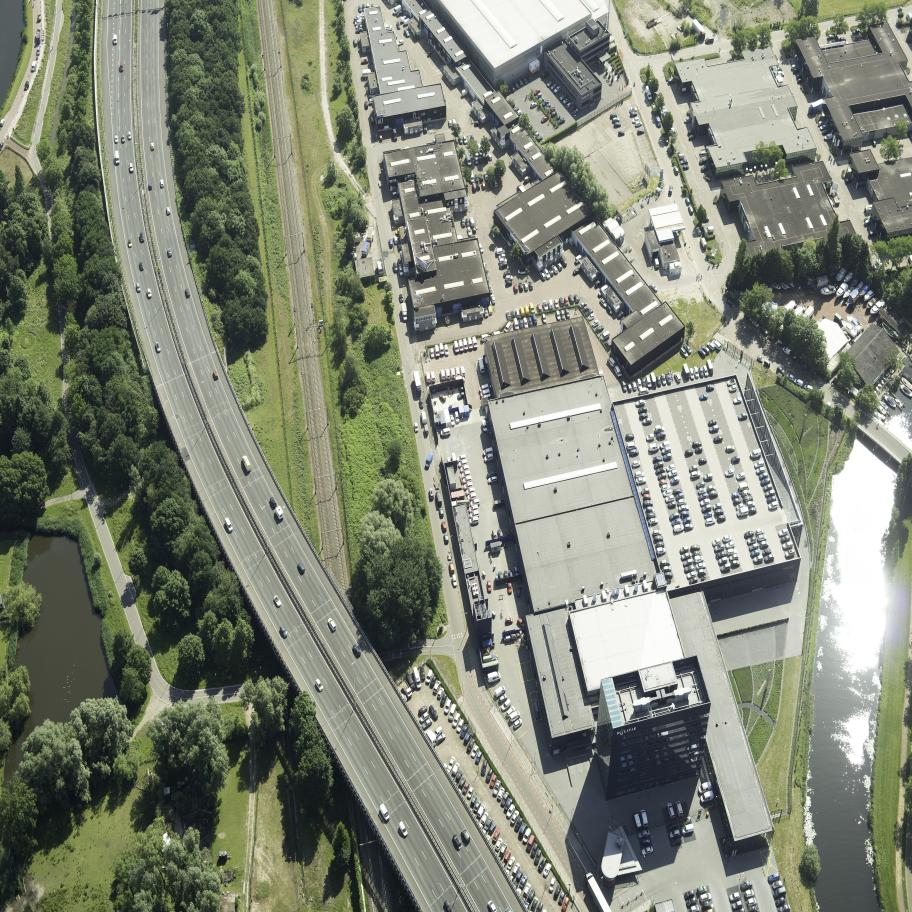large-vehicle: (689, 17, 710, 43), (422, 727, 441, 748), (805, 98, 828, 115), (800, 304, 817, 324), (377, 802, 392, 823), (412, 370, 423, 398), (698, 789, 716, 805), (485, 670, 503, 685), (400, 680, 414, 699), (240, 453, 253, 473), (506, 709, 523, 724), (696, 781, 714, 795), (404, 673, 417, 692), (498, 698, 514, 713), (412, 666, 422, 690), (831, 312, 847, 327), (273, 504, 287, 521), (492, 684, 508, 698), (447, 702, 458, 722), (423, 452, 435, 470), (680, 823, 696, 836), (223, 516, 235, 533), (632, 812, 643, 830), (504, 705, 518, 719), (431, 725, 445, 739), (596, 284, 611, 297), (748, 447, 763, 460), (666, 801, 676, 820), (605, 355, 618, 369), (681, 363, 691, 381), (400, 302, 409, 322), (598, 330, 613, 342), (640, 809, 649, 828), (710, 338, 723, 351), (390, 4, 404, 16), (502, 320, 514, 334), (649, 372, 658, 390), (675, 800, 684, 818), (439, 426, 452, 438), (573, 253, 586, 265), (492, 498, 506, 509), (706, 359, 715, 376), (613, 364, 623, 379), (425, 668, 434, 684), (482, 453, 495, 464), (699, 236, 709, 250), (705, 341, 717, 352), (479, 388, 492, 398), (462, 481, 475, 491), (465, 492, 478, 502), (464, 151, 472, 167), (435, 491, 443, 507), (478, 383, 490, 393), (481, 393, 493, 403), (482, 447, 494, 457), (459, 464, 471, 474), (460, 470, 472, 480), (461, 475, 473, 485), (469, 498, 481, 508), (468, 504, 480, 514), (469, 510, 481, 520), (468, 516, 480, 526), (457, 339, 465, 354), (480, 333, 492, 343), (653, 424, 665, 434), (478, 357, 485, 374), (402, 17, 413, 27), (399, 14, 410, 24), (704, 225, 715, 235), (361, 69, 373, 78), (465, 487, 477, 496), (457, 459, 469, 468), (492, 330, 504, 339), (420, 410, 427, 425), (453, 340, 460, 355), (438, 342, 445, 357), (30, 60, 38, 73), (439, 369, 447, 382), (444, 368, 452, 381), (528, 302, 536, 315), (455, 375, 466, 384), (456, 454, 467, 463), (495, 247, 506, 256), (704, 36, 715, 45), (477, 143, 484, 157), (471, 336, 478, 350), (467, 337, 474, 351), (462, 338, 469, 352), (459, 365, 466, 378), (468, 171, 475, 184), (449, 367, 456, 380), (481, 419, 488, 432), (513, 318, 520, 331), (443, 344, 450, 357), (531, 313, 538, 326), (655, 115, 662, 128), (653, 256, 660, 269), (702, 364, 709, 377), (114, 150, 120, 165), (454, 366, 461, 378), (434, 344, 440, 358), (523, 304, 530, 316), (23, 81, 31, 91), (392, 128, 398, 141), (451, 452, 457, 465), (36, 29, 41, 44), (425, 372, 431, 384), (430, 371, 436, 383), (454, 411, 460, 423), (469, 216, 475, 228), (519, 306, 525, 317), (446, 457, 452, 467), (36, 45, 41, 56), (120, 61, 124, 72), (113, 34, 117, 44), (38, 13, 42, 21)
ship: (843, 311, 866, 334), (838, 317, 861, 339), (878, 320, 900, 342), (866, 298, 887, 317), (780, 298, 799, 317), (832, 280, 851, 299), (789, 301, 807, 321), (840, 268, 858, 286), (834, 264, 850, 284), (864, 294, 882, 311), (840, 284, 857, 301), (856, 283, 872, 299), (882, 394, 898, 409), (819, 284, 838, 296), (847, 275, 863, 289), (861, 289, 876, 303), (853, 280, 867, 293), (769, 280, 783, 291), (876, 404, 888, 416), (878, 399, 890, 411), (786, 278, 797, 289), (893, 397, 904, 408), (779, 281, 788, 291), (782, 280, 791, 290), (886, 391, 895, 400)
small-vehicle: (771, 886, 789, 900), (450, 833, 464, 850), (419, 717, 435, 731), (397, 820, 409, 838), (525, 834, 537, 852), (521, 826, 533, 844), (417, 710, 432, 724), (541, 862, 554, 878), (427, 704, 440, 720), (459, 827, 472, 843), (505, 803, 517, 820), (509, 809, 521, 826), (537, 856, 549, 873), (433, 732, 448, 745), (313, 677, 325, 693), (475, 803, 487, 819), (483, 815, 494, 832), (498, 841, 509, 858), (506, 855, 517, 872), (560, 895, 571, 912), (513, 816, 524, 833), (416, 704, 430, 717), (773, 896, 788, 908), (278, 624, 290, 639), (326, 617, 338, 632), (351, 643, 363, 658), (492, 779, 502, 797), (500, 790, 510, 808), (533, 848, 543, 866), (394, 693, 409, 705), (518, 873, 528, 891), (735, 506, 750, 518), (698, 892, 713, 904), (451, 712, 462, 728), (455, 718, 466, 734), (459, 723, 470, 739), (488, 773, 499, 789), (450, 761, 461, 777), (526, 888, 537, 904), (443, 698, 453, 715), (466, 736, 476, 753), (515, 617, 528, 630), (511, 717, 524, 730), (496, 693, 510, 705), (774, 365, 788, 377), (767, 872, 781, 884), (470, 744, 481, 759), (503, 797, 514, 812), (452, 787, 463, 802), (640, 846, 655, 857), (446, 756, 456, 772), (474, 822, 484, 838), (530, 842, 540, 858), (522, 882, 532, 898), (518, 822, 528, 838), (458, 800, 470, 813), (462, 806, 475, 818), (742, 311, 754, 324), (728, 891, 741, 903), (272, 594, 283, 608), (679, 816, 693, 827), (668, 829, 682, 840), (781, 540, 795, 551), (740, 880, 754, 891), (730, 900, 744, 911), (485, 767, 494, 784), (644, 84, 653, 101), (432, 679, 442, 694), (553, 884, 563, 899), (496, 786, 506, 801), (472, 799, 482, 814), (494, 837, 504, 852), (511, 862, 521, 877), (439, 762, 449, 777), (548, 877, 557, 893), (503, 848, 512, 864), (449, 781, 458, 797), (514, 887, 523, 903), (530, 896, 539, 912), (682, 342, 694, 354), (532, 134, 545, 145), (777, 527, 790, 538), (719, 562, 732, 573), (679, 346, 690, 359), (697, 346, 708, 359), (856, 36, 869, 47), (783, 548, 796, 559), (696, 885, 709, 896), (685, 897, 698, 908), (701, 900, 714, 911), (780, 345, 793, 356), (296, 561, 306, 575), (461, 781, 471, 795), (463, 731, 473, 745), (474, 751, 484, 765), (457, 776, 467, 790), (480, 811, 490, 825), (487, 822, 497, 836), (491, 829, 501, 843), (445, 775, 455, 789), (470, 817, 480, 831), (637, 829, 651, 839), (480, 759, 488, 776), (533, 703, 541, 720), (468, 811, 477, 826), (478, 829, 487, 844), (515, 868, 524, 883), (552, 84, 564, 95), (545, 105, 557, 116), (521, 174, 533, 185), (648, 442, 660, 453), (669, 475, 681, 486), (598, 297, 609, 309), (793, 377, 805, 388), (725, 297, 736, 309), (701, 344, 712, 356), (743, 888, 755, 899), (268, 496, 278, 509), (454, 770, 464, 783), (668, 512, 681, 522), (699, 498, 712, 508), (700, 504, 713, 514), (659, 440, 672, 450), (660, 446, 673, 456), (759, 477, 772, 487), (764, 489, 777, 499), (713, 543, 726, 553), (715, 550, 728, 560), (752, 554, 765, 564), (763, 553, 776, 563), (683, 890, 696, 900), (439, 693, 448, 707), (498, 861, 507, 875), (557, 891, 566, 905), (593, 278, 604, 289), (767, 333, 778, 344), (649, 282, 660, 293), (487, 475, 499, 485), (748, 543, 760, 553), (503, 868, 511, 883), (507, 874, 515, 889), (511, 881, 519, 896), (659, 558, 671, 568), (655, 431, 667, 441), (653, 460, 665, 470), (665, 463, 677, 473), (767, 501, 779, 511), (728, 553, 740, 563), (735, 471, 747, 481), (682, 558, 694, 568), (686, 570, 698, 580), (693, 554, 705, 564), (717, 556, 729, 566), (726, 547, 738, 557), (746, 535, 758, 545), (708, 424, 720, 434), (594, 324, 606, 334), (615, 310, 627, 320), (605, 304, 615, 316), (784, 372, 796, 382), (803, 383, 815, 393), (746, 897, 758, 907), (436, 686, 445, 699), (429, 675, 438, 688), (683, 565, 696, 574), (490, 851, 499, 864), (677, 504, 690, 513), (673, 371, 682, 384), (654, 466, 667, 475), (680, 552, 693, 561), (484, 834, 491, 850), (437, 393, 448, 403), (456, 391, 467, 401), (540, 70, 551, 80), (558, 92, 569, 102), (561, 96, 572, 106), (556, 116, 567, 126), (523, 123, 534, 133), (530, 131, 541, 141), (536, 138, 547, 148), (671, 517, 682, 527), (681, 516, 692, 526), (550, 264, 560, 275), (559, 257, 569, 268), (572, 266, 583, 276), (662, 488, 673, 498), (730, 559, 741, 569), (755, 354, 766, 364), (759, 326, 770, 336), (725, 540, 736, 550), (744, 530, 755, 540), (583, 308, 594, 318), (603, 339, 613, 350), (667, 822, 678, 832), (772, 880, 783, 890), (486, 470, 498, 479), (756, 533, 768, 542), (758, 540, 770, 549), (394, 226, 406, 235), (654, 541, 666, 550), (655, 546, 667, 555), (673, 524, 685, 533), (690, 470, 702, 479), (543, 268, 552, 280), (713, 508, 725, 517), (664, 494, 676, 503), (704, 517, 716, 526), (656, 472, 668, 481), (667, 469, 679, 478), (742, 494, 754, 503), (762, 483, 774, 492), (678, 546, 690, 555), (695, 561, 707, 570), (711, 538, 723, 547), (730, 455, 742, 464), (780, 535, 792, 544), (749, 549, 761, 558), (671, 837, 683, 846), (645, 375, 652, 390), (448, 414, 456, 427), (467, 786, 475, 799), (487, 843, 495, 856), (443, 769, 451, 782), (470, 794, 478, 807), (660, 373, 668, 386), (664, 372, 672, 385), (507, 83, 517, 93), (565, 100, 575, 110), (552, 113, 562, 123), (538, 271, 548, 281), (498, 261, 509, 270), (549, 82, 560, 91), (540, 99, 551, 108), (542, 103, 553, 112), (527, 128, 538, 137), (521, 75, 530, 86), (634, 470, 645, 479), (636, 476, 647, 485), (640, 487, 651, 496), (641, 837, 652, 846), (683, 522, 694, 531), (684, 448, 695, 457), (703, 473, 714, 482), (695, 481, 706, 490), (698, 492, 709, 501), (708, 490, 719, 499), (546, 266, 555, 277), (712, 502, 723, 511), (646, 512, 657, 521), (648, 517, 659, 526), (645, 433, 656, 442), (672, 487, 683, 496), (662, 452, 673, 461), (660, 483, 671, 492), (661, 565, 672, 574), (737, 412, 748, 421), (741, 488, 752, 497), (747, 506, 758, 515), (754, 460, 765, 469), (755, 466, 766, 475), (758, 472, 769, 481), (766, 495, 777, 504), (688, 576, 699, 585), (713, 435, 724, 444), (724, 469, 735, 478), (698, 393, 709, 402), (491, 529, 498, 543), (495, 855, 502, 869), (154, 341, 162, 353), (477, 242, 485, 254), (492, 227, 500, 239), (568, 293, 576, 305), (702, 365, 710, 377), (497, 528, 504, 541), (395, 9, 405, 18), (402, 29, 411, 39), (513, 109, 523, 118), (507, 102, 517, 111), (503, 85, 512, 95), (504, 98, 514, 107), (546, 79, 556, 88), (568, 104, 578, 113), (539, 115, 549, 124), (652, 529, 662, 538), (581, 304, 591, 313), (578, 300, 588, 309), (703, 511, 713, 520), (675, 492, 685, 501), (677, 498, 687, 507), (751, 319, 761, 328), (697, 568, 707, 577), (725, 444, 735, 453), (728, 384, 738, 393), (591, 319, 601, 328), (854, 33, 864, 42), (653, 535, 664, 543), (502, 270, 513, 278), (635, 399, 646, 407), (638, 412, 649, 420), (642, 417, 653, 425), (688, 465, 699, 473), (643, 500, 654, 508), (638, 387, 649, 395), (679, 510, 690, 518), (652, 455, 663, 463), (732, 497, 743, 505), (663, 571, 674, 579), (690, 544, 701, 552), (823, 133, 834, 141), (697, 158, 708, 166), (666, 146, 674, 157), (146, 287, 153, 299), (420, 667, 426, 681), (428, 488, 435, 500), (513, 566, 520, 578), (626, 381, 633, 393), (522, 317, 529, 329), (542, 299, 549, 311), (517, 76, 524, 88), (693, 366, 700, 378), (698, 366, 705, 378), (868, 229, 877, 238), (763, 359, 772, 368), (571, 107, 580, 116), (534, 92, 543, 101), (731, 491, 740, 500), (389, 33, 399, 41), (371, 101, 381, 109), (395, 39, 405, 47), (431, 137, 441, 145), (536, 96, 546, 104), (549, 110, 559, 118), (638, 406, 648, 414), (625, 433, 635, 441), (631, 460, 641, 468), (692, 440, 702, 448), (697, 487, 707, 495), (556, 261, 564, 271), (667, 501, 677, 509), (717, 514, 727, 522), (685, 108, 695, 116), (658, 478, 668, 486), (733, 396, 743, 404), (821, 128, 831, 136), (735, 503, 745, 511), (726, 378, 736, 386), (722, 535, 732, 543), (755, 527, 765, 535), (707, 419, 717, 427), (586, 313, 596, 321), (688, 133, 698, 141), (700, 165, 710, 173), (498, 570, 504, 583), (516, 586, 522, 599), (212, 369, 219, 380), (184, 287, 191, 298), (138, 261, 145, 272), (443, 533, 450, 544), (472, 146, 479, 157), (631, 380, 638, 391), (640, 377, 647, 388), (564, 308, 571, 319), (486, 152, 494, 161), (449, 562, 455, 574), (508, 569, 514, 581), (511, 106, 520, 114), (398, 265, 404, 277), (533, 88, 542, 96), (529, 101, 538, 109), (525, 74, 533, 83), (634, 120, 643, 128), (518, 116, 527, 124), (694, 446, 703, 454), (548, 298, 554, 310), (518, 318, 524, 330), (689, 368, 695, 380), (692, 550, 701, 558), (870, 138, 878, 147), (863, 219, 872, 227), (368, 98, 378, 105), (383, 24, 393, 31), (762, 548, 772, 555), (497, 253, 507, 260), (505, 310, 512, 320), (392, 235, 399, 245), (481, 261, 488, 271), (629, 449, 639, 456), (573, 293, 580, 303), (706, 485, 716, 492), (558, 297, 565, 307), (679, 159, 689, 166), (680, 164, 690, 171), (645, 507, 655, 514), (819, 124, 829, 131), (673, 165, 680, 175), (851, 28, 861, 35), (135, 282, 141, 293), (139, 232, 145, 243), (438, 507, 444, 518), (441, 521, 447, 532), (418, 398, 424, 409), (392, 262, 398, 273), (490, 294, 496, 305), (515, 308, 521, 319), (483, 307, 489, 318), (527, 317, 533, 328), (541, 313, 547, 324), (555, 310, 561, 321), (656, 376, 662, 387), (688, 204, 694, 215), (696, 226, 702, 237), (668, 184, 674, 195), (452, 574, 457, 587), (630, 110, 638, 118), (355, 27, 364, 34), (513, 81, 520, 90), (613, 121, 622, 128), (498, 257, 507, 264), (617, 130, 626, 137), (609, 113, 618, 120), (631, 117, 640, 124), (698, 457, 707, 464), (517, 268, 526, 275), (658, 105, 667, 112), (746, 501, 755, 508), (790, 64, 799, 71), (797, 77, 806, 84), (817, 120, 826, 127), (844, 177, 853, 184), (667, 78, 676, 85), (687, 129, 696, 136), (706, 384, 715, 391), (826, 33, 835, 40), (167, 248, 173, 258), (422, 124, 428, 134), (483, 155, 489, 165), (505, 529, 511, 539), (487, 580, 492, 592), (460, 218, 466, 228), (466, 226, 472, 236), (622, 380, 627, 392), (563, 297, 569, 307), (743, 163, 749, 173), (560, 310, 566, 320), (518, 282, 524, 292), (637, 378, 642, 390), (663, 136, 669, 146), (354, 19, 362, 26), (355, 23, 363, 30), (505, 617, 513, 624), (505, 274, 513, 281), (505, 279, 513, 286), (637, 128, 645, 135), (793, 67, 801, 74), (683, 117, 691, 124), (414, 422, 419, 433), (430, 348, 435, 359), (554, 298, 559, 309), (129, 162, 134, 173), (354, 16, 363, 22), (127, 239, 133, 248), (462, 135, 468, 144), (483, 172, 489, 181), (481, 181, 487, 190), (513, 284, 519, 293), (510, 310, 516, 319), (398, 294, 404, 303), (611, 117, 620, 123), (763, 161, 769, 170), (659, 109, 668, 115), (667, 127, 676, 133), (523, 282, 529, 291), (536, 303, 542, 312), (774, 66, 783, 72), (685, 197, 691, 206), (452, 118, 457, 128), (470, 134, 475, 144), (397, 258, 402, 268), (489, 180, 494, 190), (485, 276, 490, 286), (752, 162, 757, 172), (748, 163, 753, 173), (528, 281, 533, 291), (114, 134, 119, 144), (388, 238, 393, 248), (361, 58, 369, 64), (385, 28, 393, 34), (629, 107, 637, 113), (643, 494, 651, 500), (668, 130, 676, 136), (777, 71, 785, 77), (655, 95, 663, 101), (701, 216, 709, 222), (166, 206, 171, 215), (378, 133, 383, 142), (127, 131, 132, 140), (121, 134, 126, 143), (396, 21, 401, 30), (474, 174, 479, 183), (479, 173, 484, 182), (472, 182, 477, 191), (493, 179, 498, 188), (465, 218, 470, 227), (488, 285, 493, 294), (759, 161, 764, 170), (504, 571, 508, 582), (508, 583, 512, 594), (474, 120, 481, 126), (676, 151, 683, 157), (796, 74, 803, 80), (371, 3, 376, 11), (458, 136, 463, 144), (474, 157, 479, 165), (478, 156, 483, 164), (368, 95, 376, 100), (772, 60, 780, 65), (661, 112, 669, 117), (370, 117, 374, 126), (353, 38, 357, 47), (775, 160, 779, 169), (448, 120, 453, 127), (472, 227, 477, 234), (654, 92, 661, 97), (839, 37, 846, 42), (160, 180, 164, 188), (364, 101, 368, 109), (358, 5, 362, 13), (362, 4, 366, 12), (366, 3, 370, 11), (476, 183, 480, 191), (148, 183, 152, 190), (151, 143, 154, 150)
